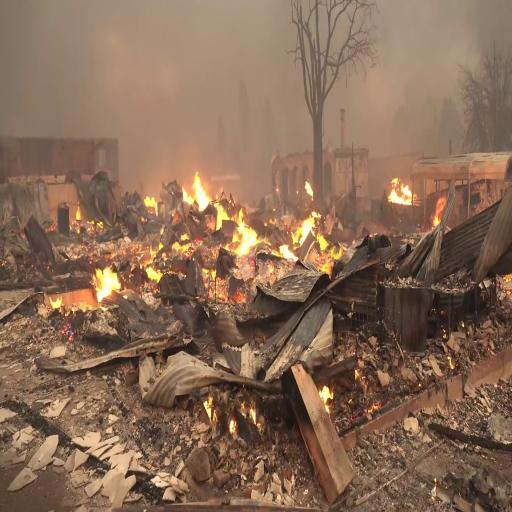fire: (282, 205, 323, 260), (222, 210, 264, 261), (388, 167, 421, 209), (91, 265, 122, 297), (184, 172, 210, 210)
smoke: (7, 2, 260, 124), (392, 3, 462, 93)
